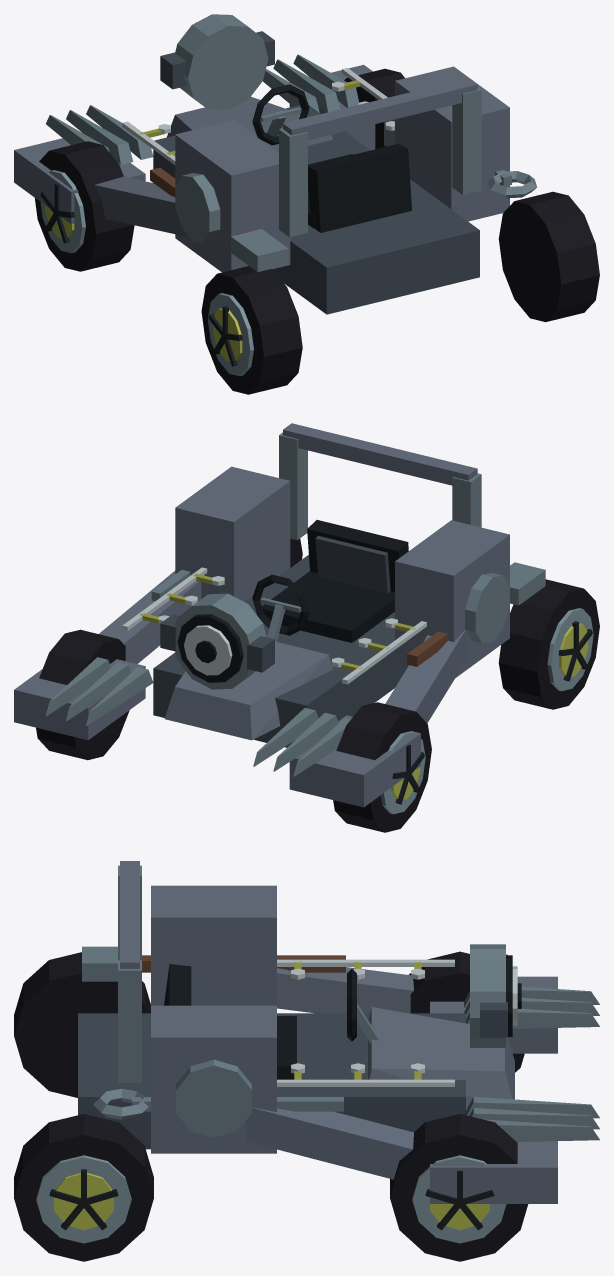
Rendered from kart.glb.
The picture shows the model from 3 angles, top to bottom: view 1: azimuth 30°, elevation 25°; view 2: azimuth 150°, elevation 25°; view 3: azimuth 270°, elevation 25°; orthographic projection. The views are drawn at different scales.
Parts seen in each view (by area): view 1: identity-mech-mech-articulated-limbs-and-open-harness, wheel-rear-right, wheel-rear-left, identity-mech-driver-cockpit, wheel-front-left, identity-mech-motif-optic, identity-mech-motif-claws, identity-mech-motif-tools, identity-mech-motif-circuit, wheel-front-right; view 2: identity-mech-mech-articulated-limbs-and-open-harness, identity-mech-driver-cockpit, wheel-rear-left, identity-mech-motif-optic, wheel-front-left, identity-mech-motif-claws, wheel-front-right, identity-mech-motif-circuit, identity-mech-motif-tools; view 3: identity-mech-mech-articulated-limbs-and-open-harness, wheel-rear-right, wheel-front-right, wheel-rear-left, identity-mech-motif-claws, identity-mech-motif-optic, identity-mech-motif-tools, identity-mech-motif-circuit, identity-mech-driver-cockpit, wheel-front-left.
Boxes of the visible parts, box(x1,y1,x2,y2) form: identity-mech-mech-articulated-limbs-and-open-harness: box(14, 64, 509, 314); wheel-rear-right: box(498, 191, 599, 322); wheel-rear-left: box(201, 266, 302, 394); identity-mech-driver-cockpit: box(252, 84, 411, 232); wheel-front-left: box(35, 141, 134, 271); identity-mech-motif-optic: box(160, 14, 274, 110); identity-mech-motif-claws: box(46, 54, 359, 164); identity-mech-motif-tools: box(150, 167, 537, 272); identity-mech-motif-circuit: box(122, 68, 394, 165); wheel-front-right: box(344, 68, 404, 149); identity-mech-mech-articulated-limbs-and-open-harness: box(14, 423, 509, 807); identity-mech-driver-cockpit: box(252, 520, 408, 642); wheel-rear-left: box(498, 579, 599, 709); identity-mech-motif-optic: box(160, 593, 274, 689); wheel-front-left: box(333, 702, 431, 832); identity-mech-motif-claws: box(45, 657, 350, 776); wheel-front-right: box(36, 629, 129, 760); identity-mech-motif-circuit: box(122, 567, 426, 684); identity-mech-motif-tools: box(151, 562, 545, 666); identity-mech-mech-articulated-limbs-and-open-harness: box(78, 861, 557, 1203); wheel-rear-right: box(14, 1114, 153, 1261); wheel-front-right: box(390, 1114, 528, 1261); wheel-rear-left: box(14, 952, 150, 1097); identity-mech-motif-claws: box(464, 986, 599, 1141); identity-mech-motif-optic: box(470, 944, 521, 1047); identity-mech-motif-tools: box(82, 946, 345, 1119); identity-mech-motif-circuit: box(277, 959, 454, 1086); identity-mech-driver-cockpit: box(164, 964, 378, 1079); wheel-front-left: box(409, 951, 524, 1072).
Size of the model in its own units: 2.29 by 1.42 by 2.93.
